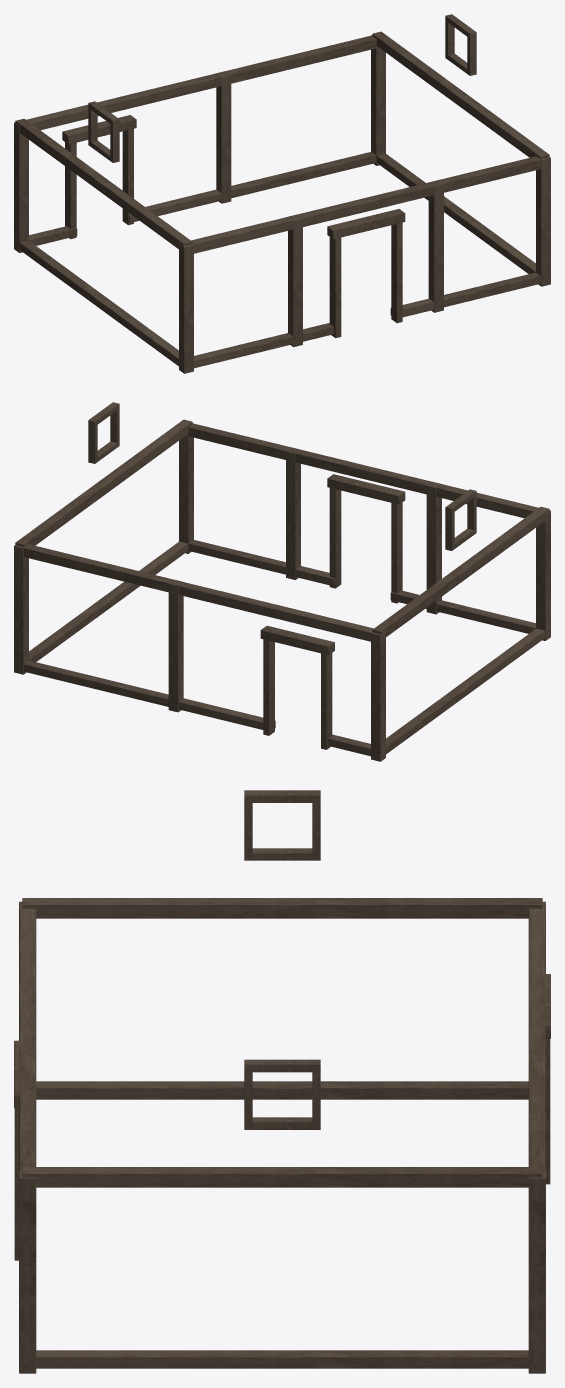
The model's file is BW_Farmhouse01_Timber.fbx.
The picture shows the model from 3 angles, top to bottom: view 1: azimuth 30°, elevation 25°; view 2: azimuth 150°, elevation 25°; view 3: azimuth 270°, elevation 25°; orthographic projection. The views are drawn at different scales.
Parts seen in each view (by area): view 1: BW_Farmhouse01_Timber; view 2: BW_Farmhouse01_Timber; view 3: BW_Farmhouse01_Timber.
Part boxes in pixels (x1,y1,x2,y2): BW_Farmhouse01_Timber: (14,14,550,373); BW_Farmhouse01_Timber: (14,402,550,761); BW_Farmhouse01_Timber: (14,790,550,1373).
Bounding box in the file's own units: 9.25 × 4.8 × 7.59.
